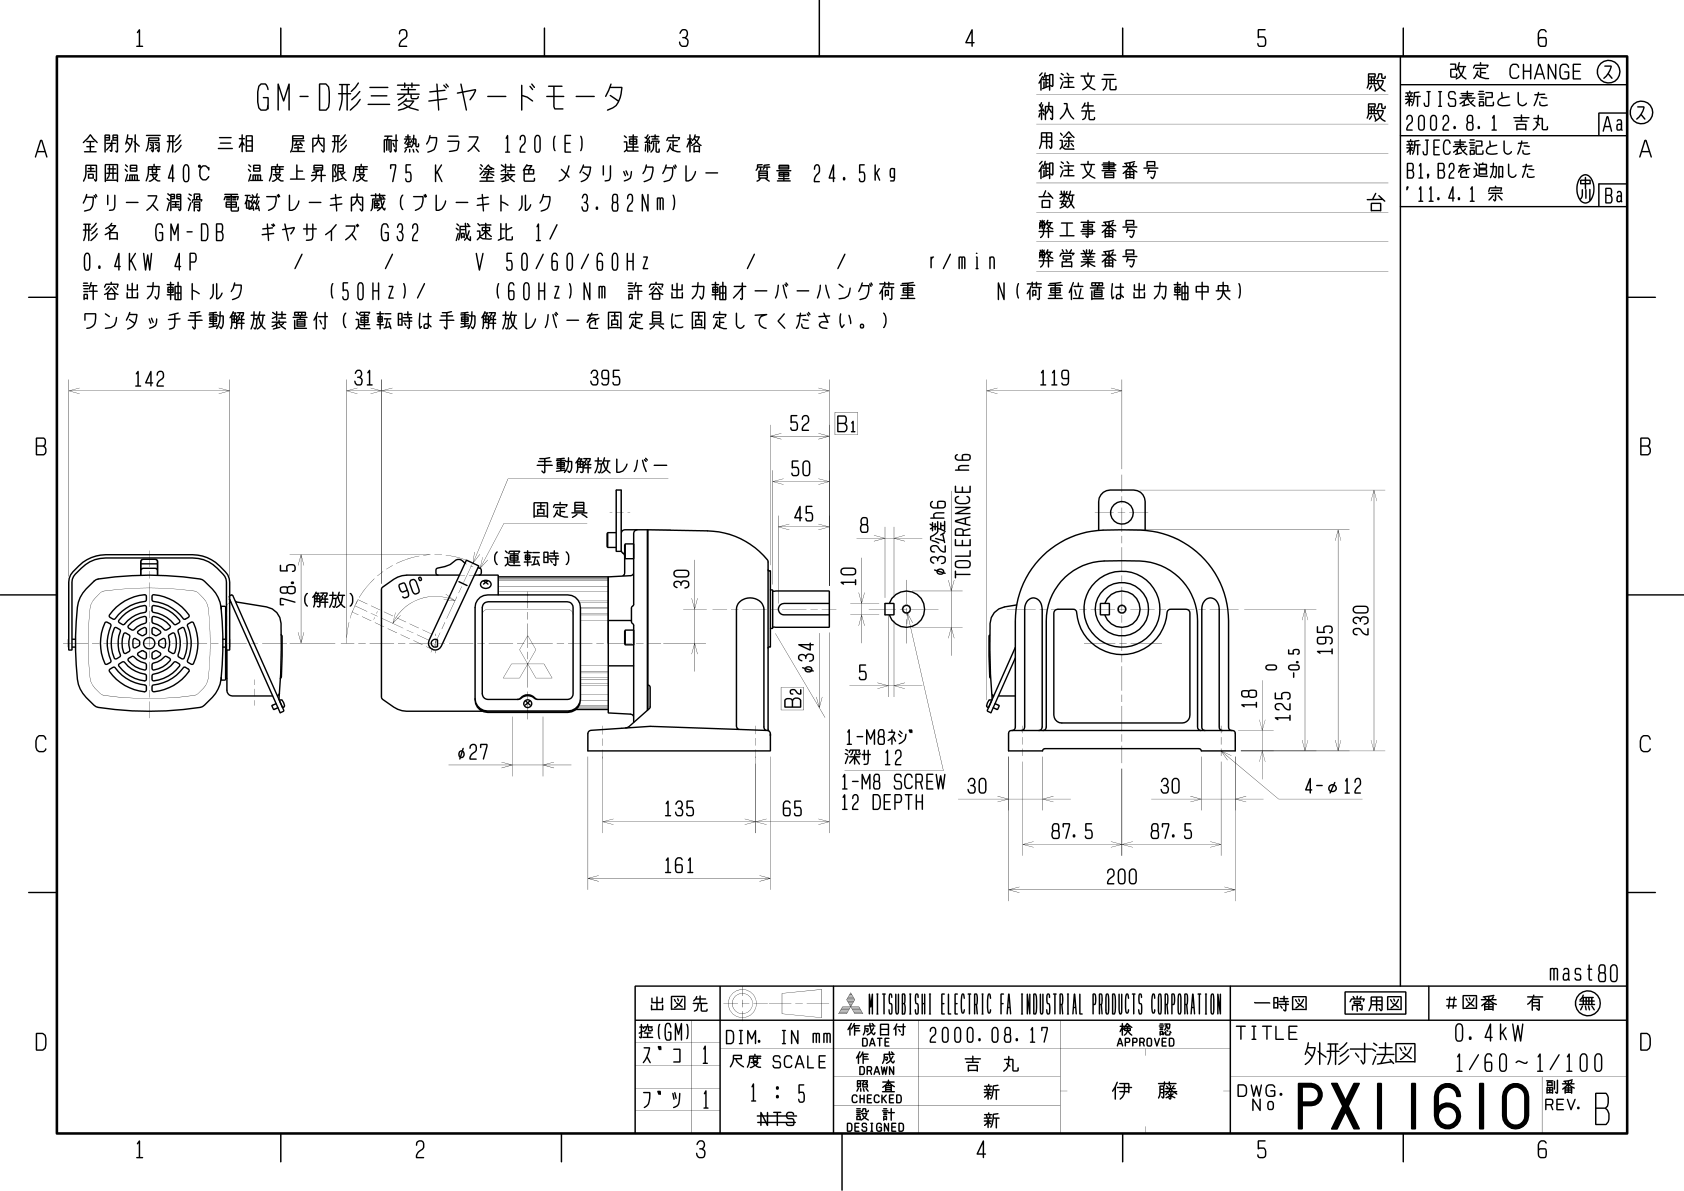GM_D_手動解放ブレーキ＿三相_脚: (1, 1, 1678, 1178)
